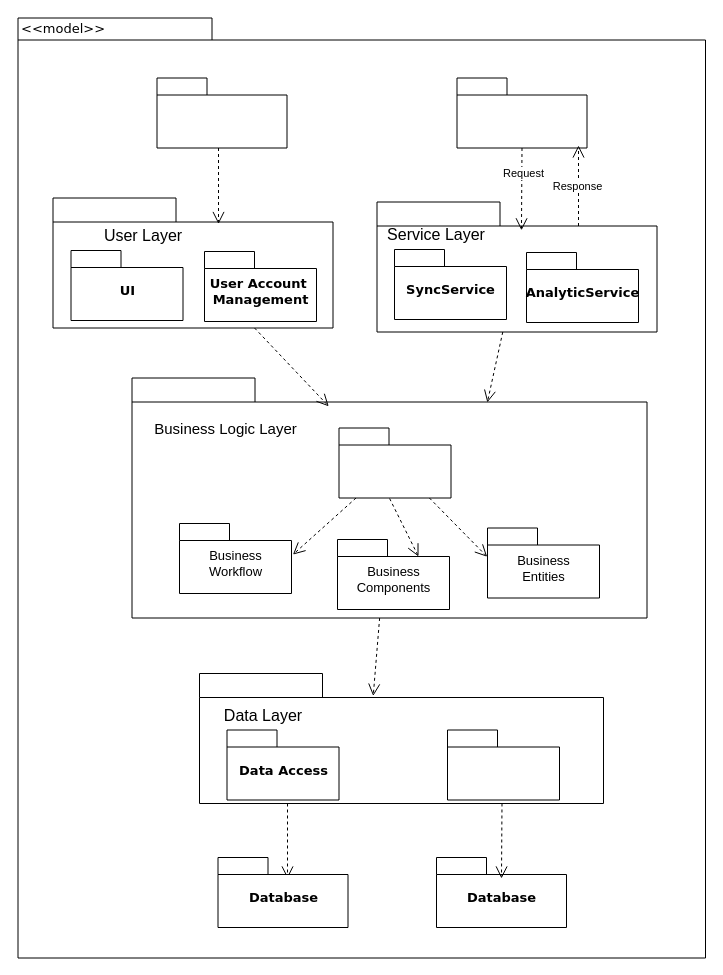
This 723x975 diagram has some shape labels left out. Here are the shapes that lost their labels. From the top down, the centre of each, then its label:
At pixel 221 112: "users".
At pixel 521 112: "External Systems".
At pixel 394 462: "Application Structure".
At pixel 503 764: "BackUpSystem".
